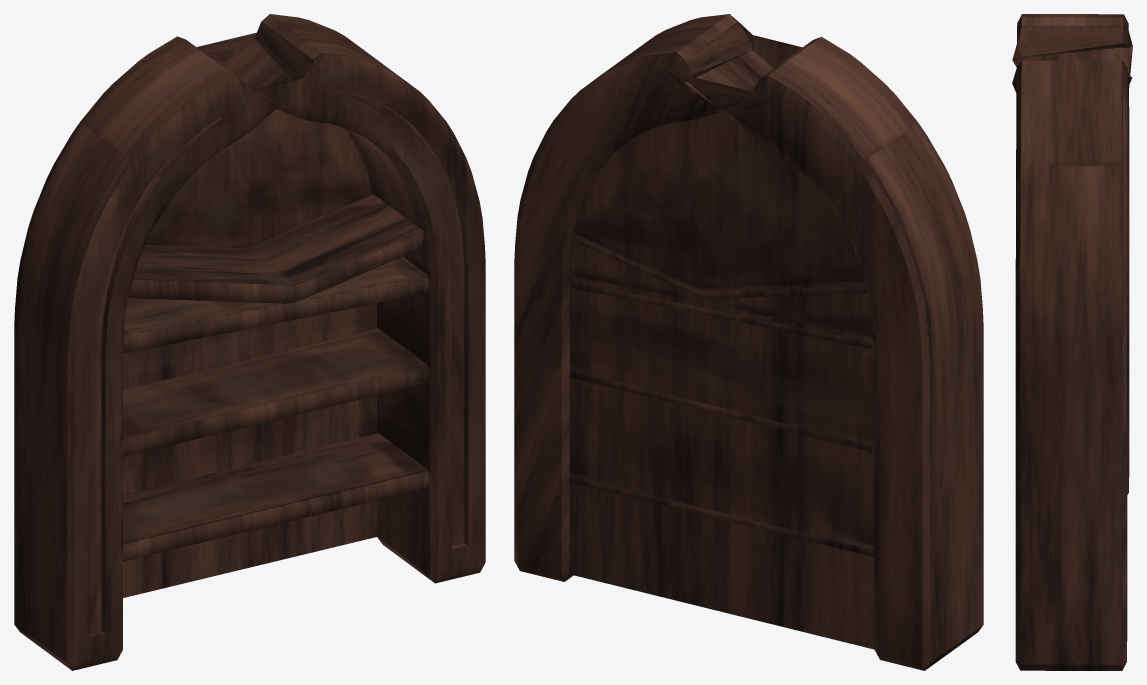
Rendered from Regal.glb.
The picture shows the model from 3 angles, left to right: view 1: azimuth 30°, elevation 25°; view 2: azimuth 150°, elevation 25°; view 3: azimuth 270°, elevation 25°; orthographic projection. The views are drawn at different scales.
Visible parts, largest first — view 1: Regal; view 2: Regal; view 3: Regal.
Boxes of the visible parts, box(x1,y1,x2,y2) form: Regal: box(14, 14, 485, 670); Regal: box(514, 14, 983, 670); Regal: box(1012, 14, 1132, 670).
Size of the model in its own units: 29.01 by 36.97 by 7.55.
Materials: 1 (1 with a texture image).
